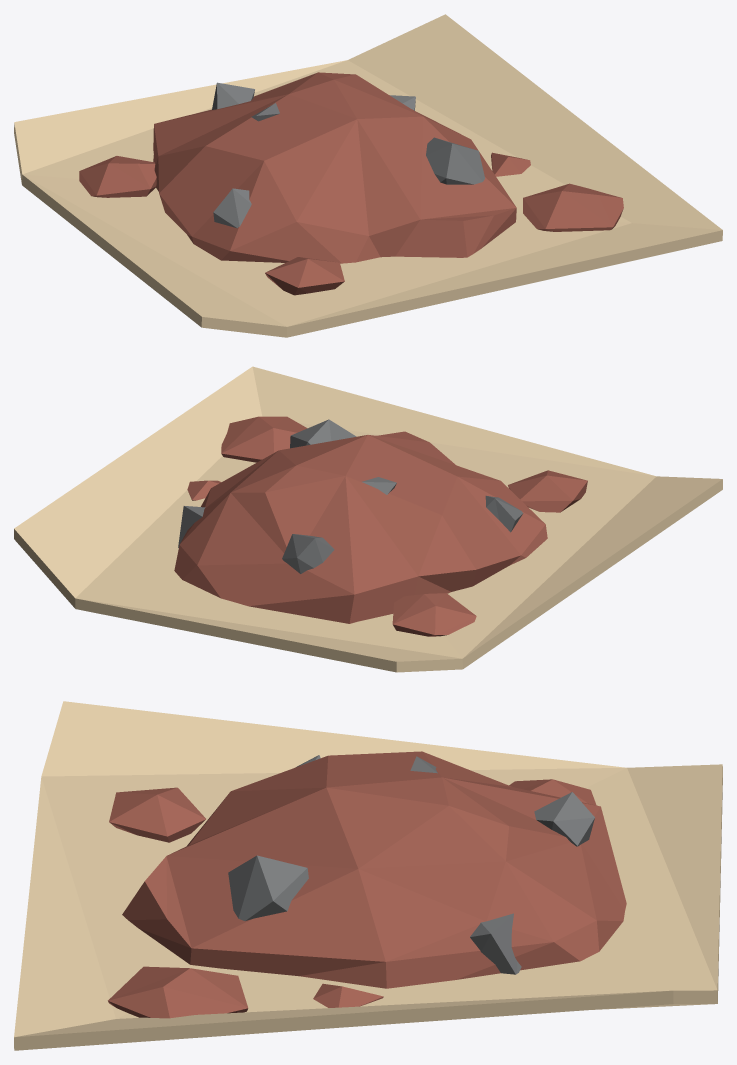
Rendered from dirt_element.fbx.
3 renders of one model, top to bottom at view 1: azimuth 30°, elevation 25°; view 2: azimuth 150°, elevation 25°; view 3: azimuth 270°, elevation 25°, orthographic. The views are drawn at different scales.
Parts seen in each view (by area): view 1: dirt_element; view 2: dirt_element; view 3: dirt_element.
Part boxes in pixels (x1=…): dirt_element: x1=14, y1=14, x2=722, y2=337; dirt_element: x1=14, y1=366, x2=722, y2=672; dirt_element: x1=14, y1=701, x2=722, y2=1050.
Bounding box in the file's own units: 698 × 134 × 676.
